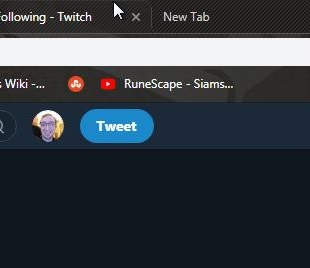cursor: (112, 1, 124, 21)
